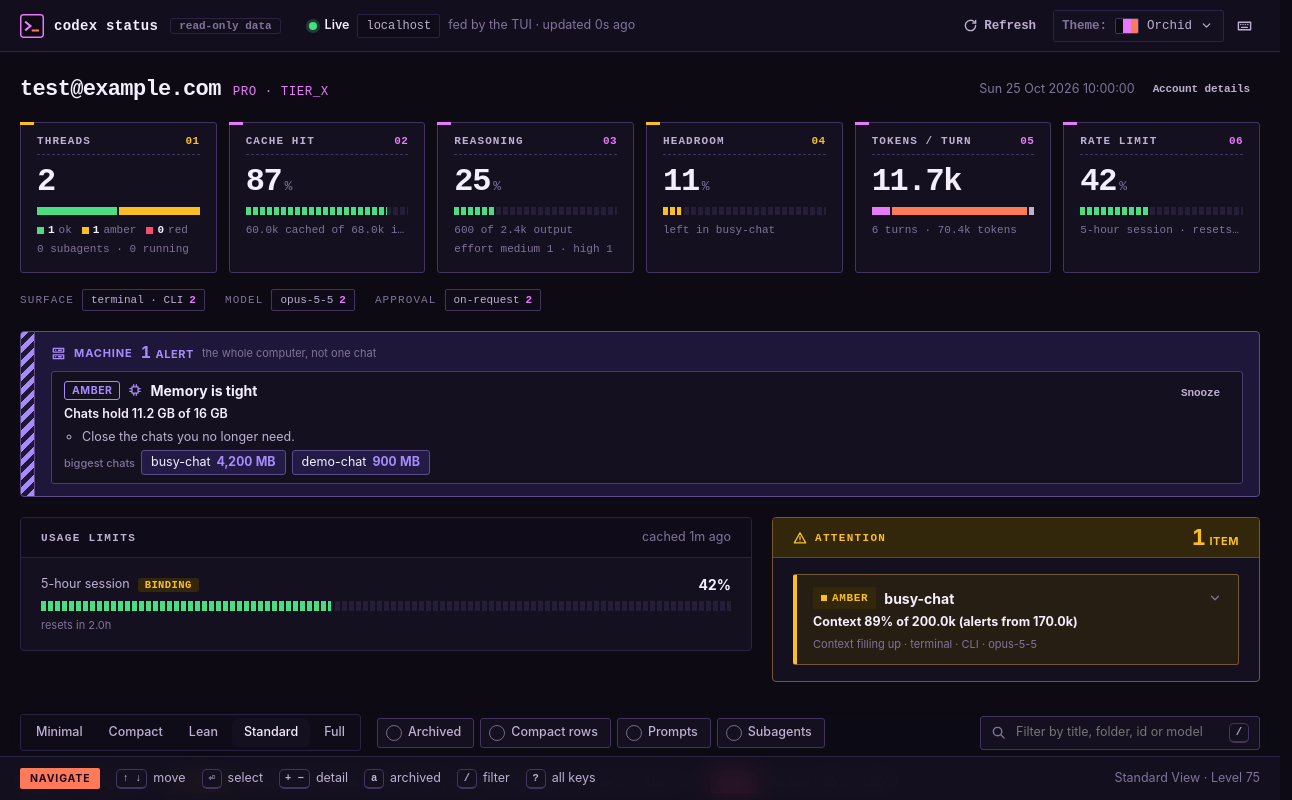
Test: machine band › Snooze minimises an alert to a chip, and a click on the chip expands it again
The width and height of the screenshot is (1292, 800).
Click the button "Snooze" at (1200, 393), box [1171, 380, 1230, 406]
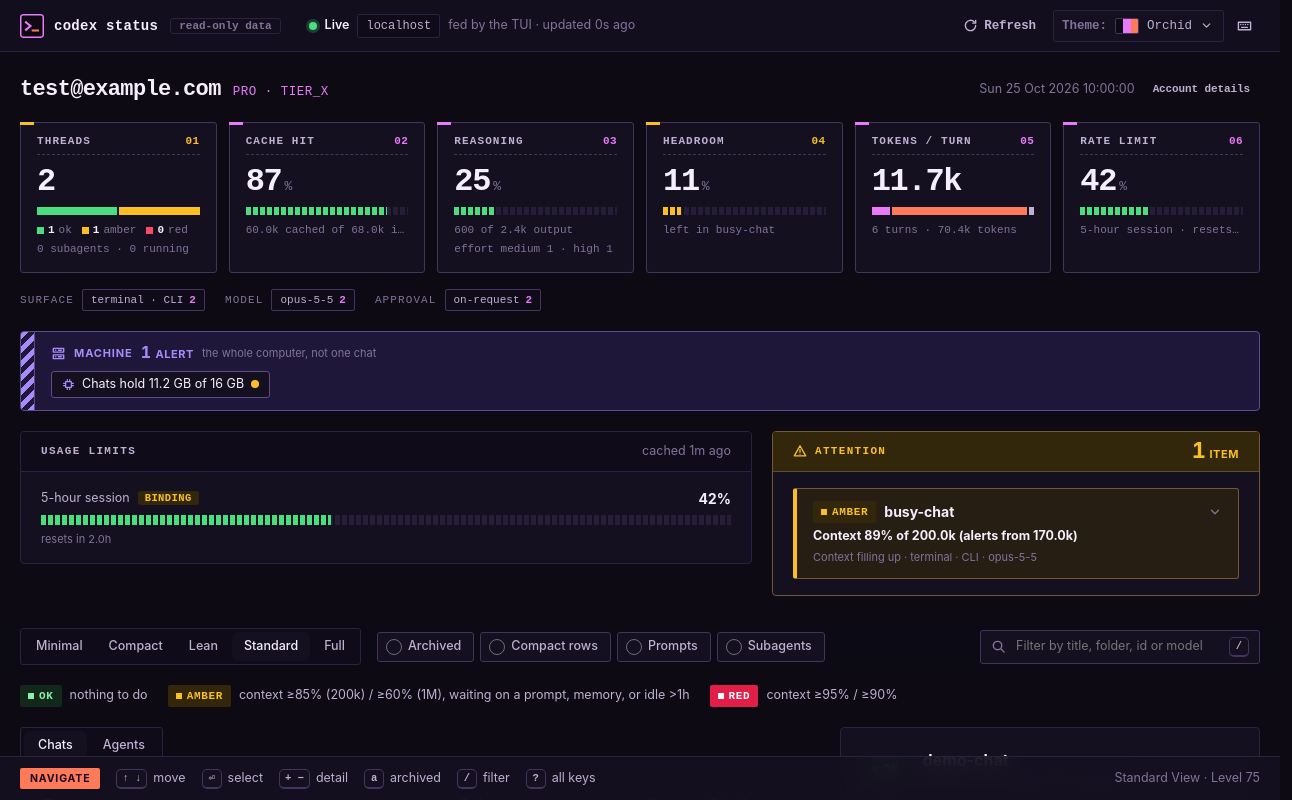
Result: the list item "Close the chats you no longer need." is gone
Click the button with aria-label "Show Memory is tight" at (161, 384), box [51, 371, 270, 398]
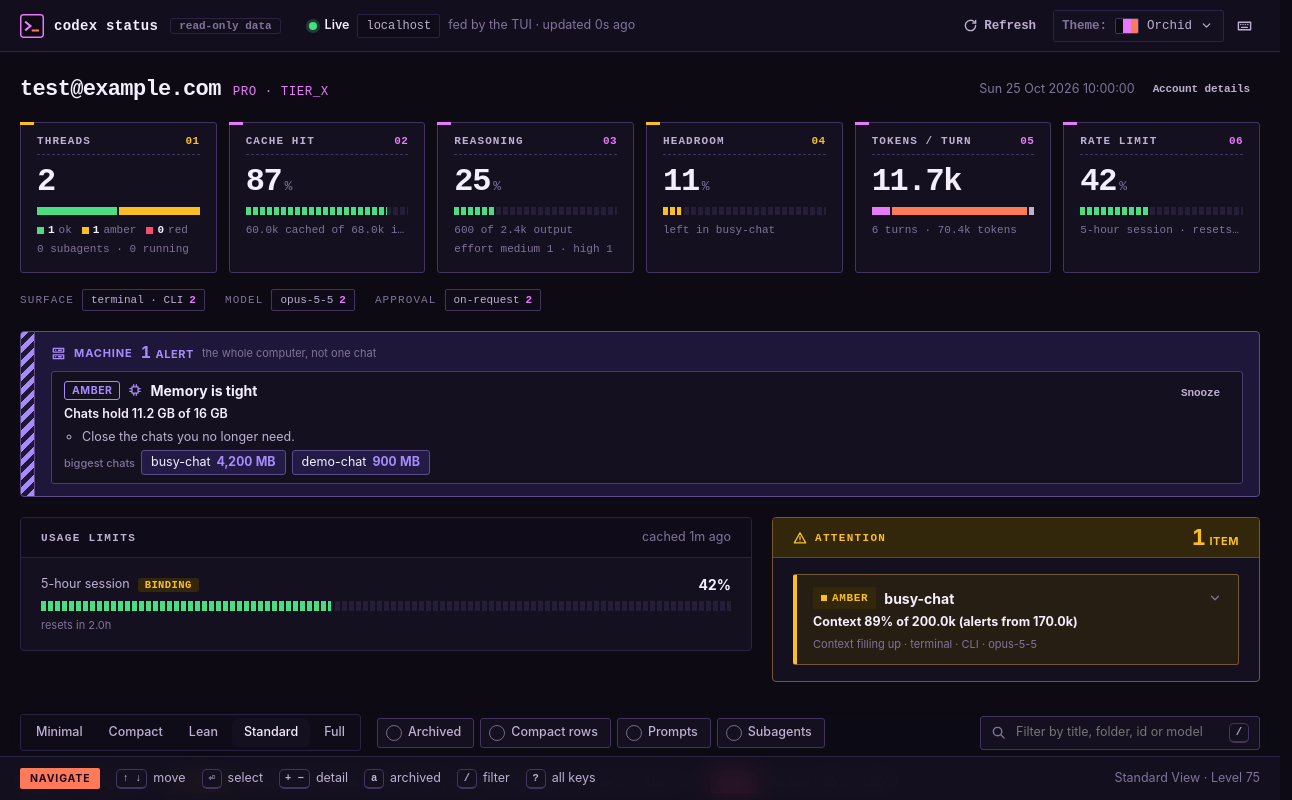
Result: the list item "Close the chats you no longer need." is shown at [82, 429, 295, 444]
